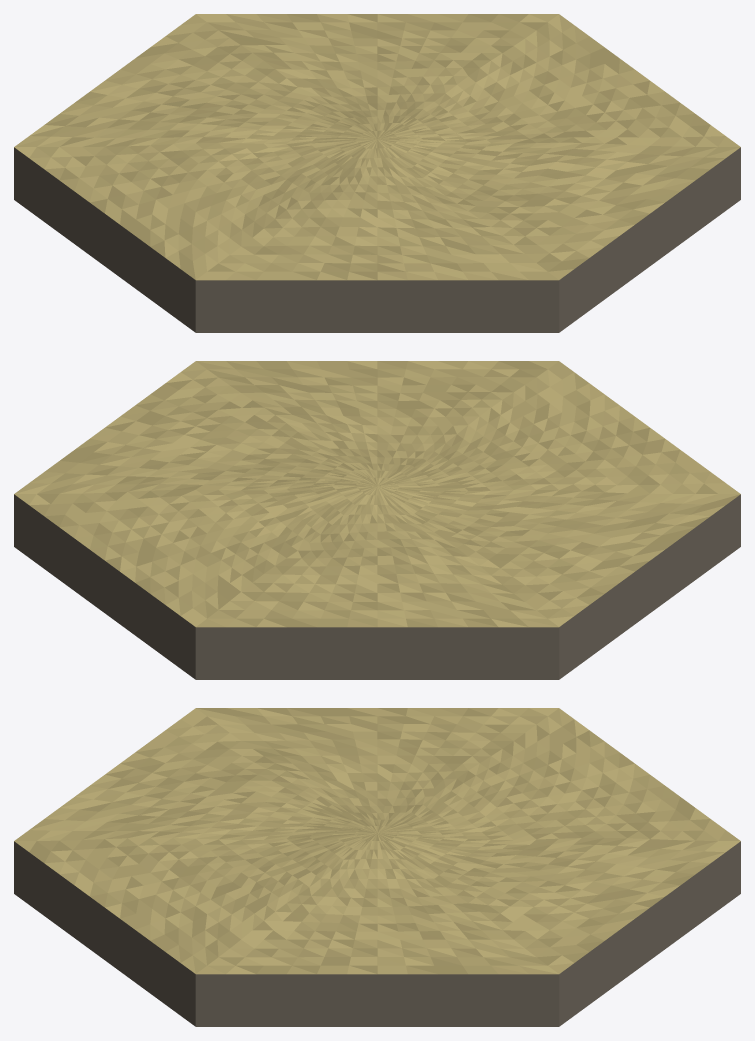
Rendered from TERRAIN_PLAINS_v01.fbx.
3 renders of one model, top to bottom at view 1: azimuth 30°, elevation 25°; view 2: azimuth 150°, elevation 25°; view 3: azimuth 270°, elevation 25°, orthographic.
Visible parts, largest first — view 1: TERRAIN_PLAINS_v01; view 2: TERRAIN_PLAINS_v01; view 3: TERRAIN_PLAINS_v01.
Boxes of the visible parts, box(x1,y1,x2,y2) form: TERRAIN_PLAINS_v01: box(14, 14, 740, 332); TERRAIN_PLAINS_v01: box(14, 361, 740, 679); TERRAIN_PLAINS_v01: box(14, 708, 740, 1026).
Bounding box in the file's own units: 173 × 18.57 × 200.
